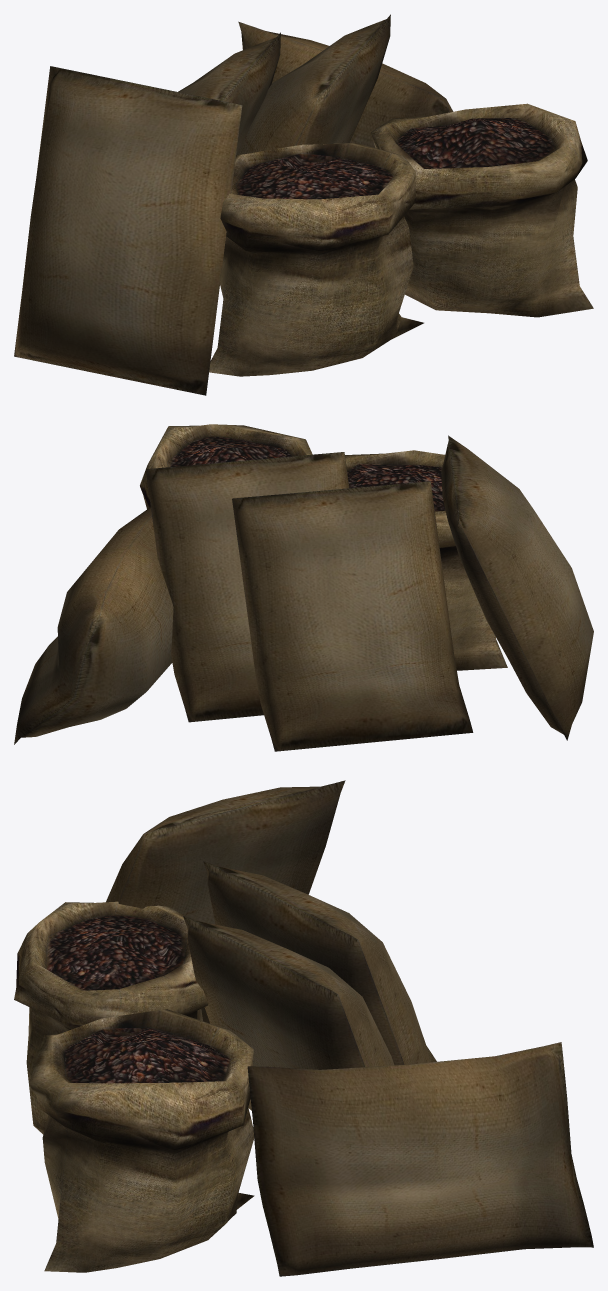
The model's file is wheat sack.fbx.
3 renders of one model, top to bottom at view 1: azimuth 30°, elevation 25°; view 2: azimuth 150°, elevation 25°; view 3: azimuth 270°, elevation 25°, orthographic. The views are drawn at different scales.
Visible parts, largest first — view 1: Cube.001, Plane, Plane.001, Cube.012, Cube.003, Cube.002; view 2: Cube.002, Cube.012, Cube.001, Cube.003, Plane, Plane.001; view 3: Cube.003, Plane.001, Plane, Cube.012, Cube.001, Cube.002.
Part boxes in pixels (<box>): Cube.001: <box>14,66,242,395</box>; Plane: <box>209,143,423,376</box>; Plane.001: <box>371,103,593,317</box>; Cube.012: <box>236,14,390,154</box>; Cube.003: <box>238,21,453,147</box>; Cube.002: <box>178,32,280,154</box>; Cube.002: <box>232,481,473,751</box>; Cube.012: <box>146,452,349,722</box>; Cube.001: <box>441,435,593,740</box>; Cube.003: <box>14,507,173,744</box>; Plane: <box>345,450,507,670</box>; Plane.001: <box>140,424,312,509</box>; Cube.003: <box>247,1042,593,1276</box>; Plane.001: <box>29,1009,254,1272</box>; Plane: <box>14,901,207,1134</box>; Cube.012: <box>183,915,394,1110</box>; Cube.001: <box>106,780,345,1023</box>; Cube.002: <box>203,861,436,1065</box>.
Size of the model in its own units: 253 by 118 by 227.
